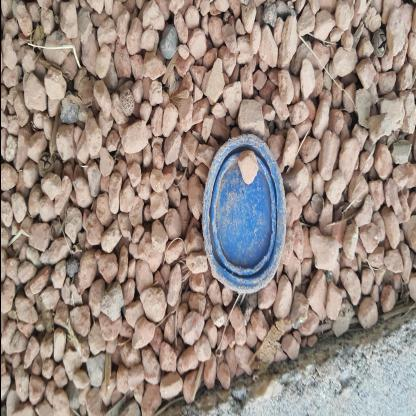plastik: (134, 131, 296, 215)
